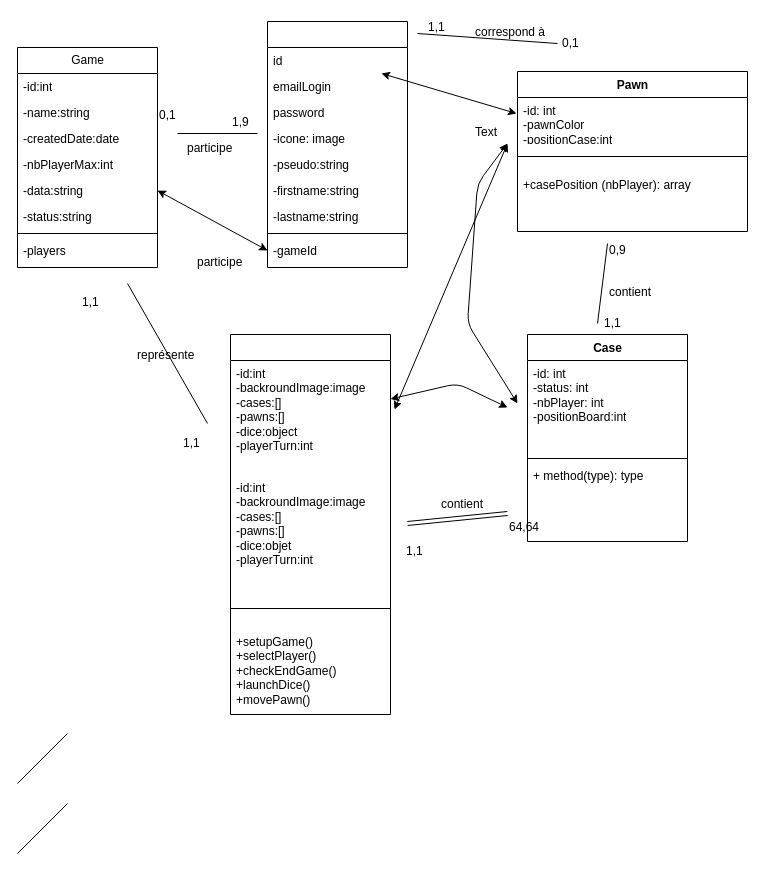
This 765x872 diagram has some shape labels left out. Here are the shapes that lost their labels. From the top down, the box of each, then its label:
(266, 20, 408, 268): User
(230, 334, 390, 714): Board
